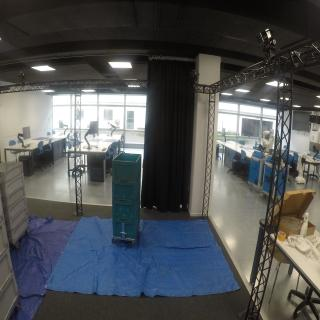BoxB4: (113, 154, 142, 183), (113, 182, 143, 203), (113, 202, 142, 222), (113, 220, 142, 240)
